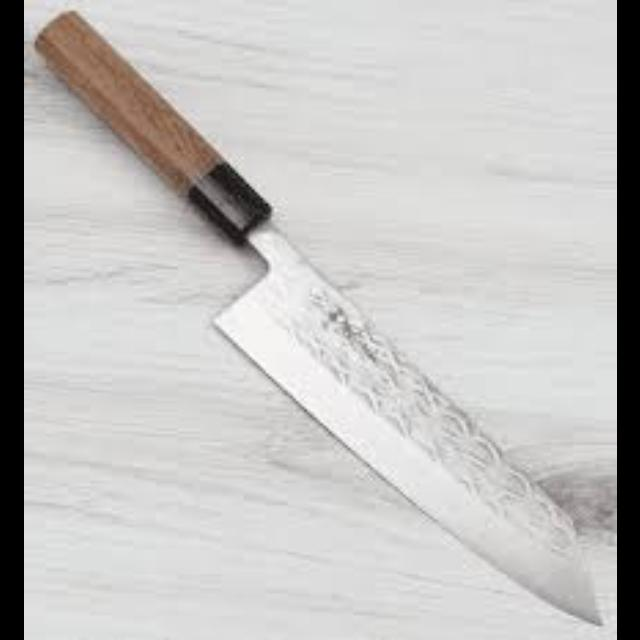knife: (31, 6, 602, 626)
